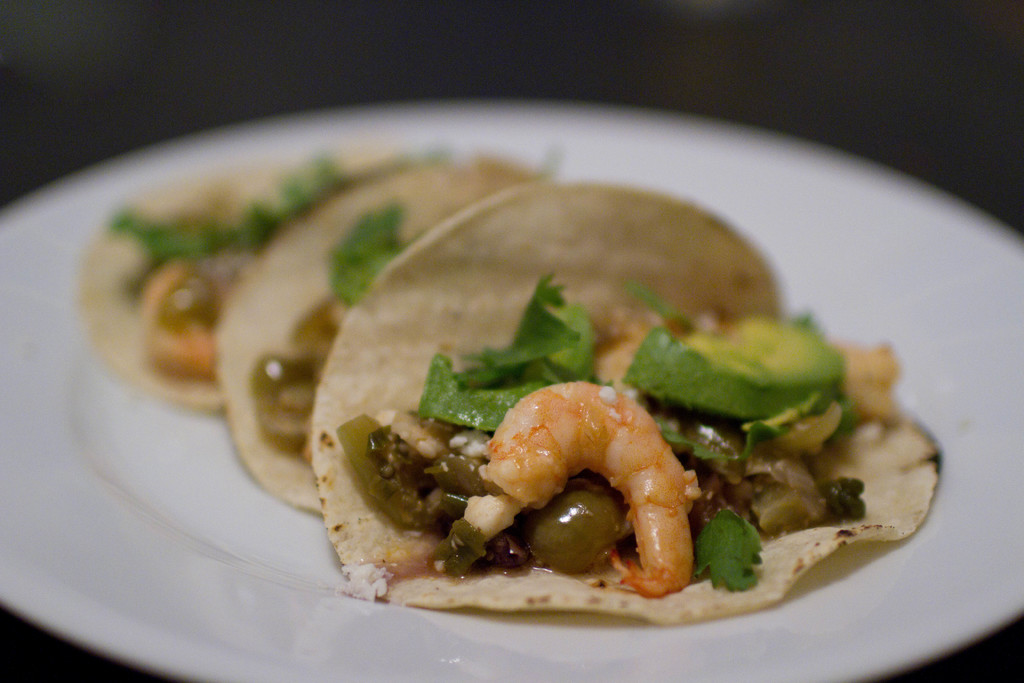taco: (312, 177, 941, 627), (211, 163, 529, 511), (73, 150, 333, 416)
